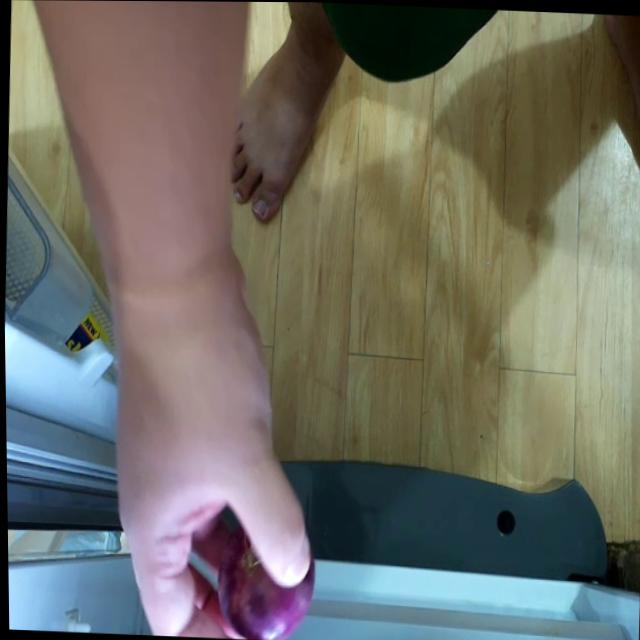onion: (208, 524, 314, 639)
